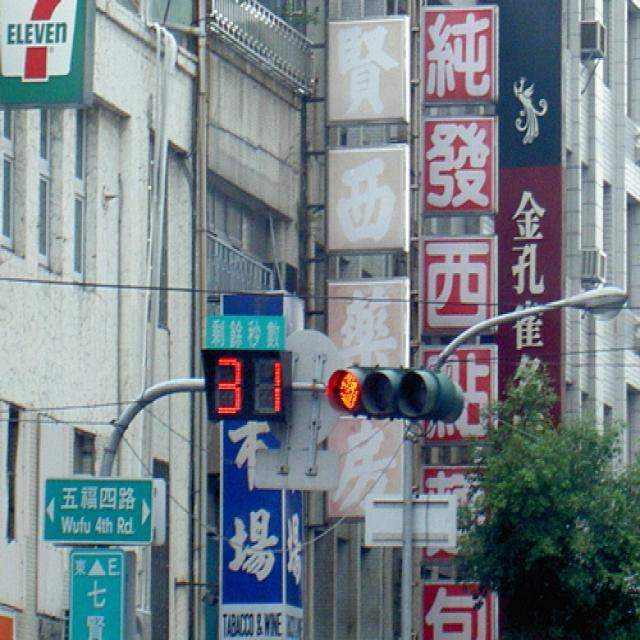red light: (326, 362, 465, 426)
